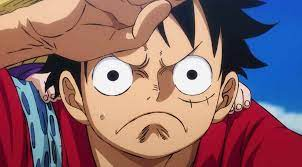Luffy: (59, 1, 240, 162)
